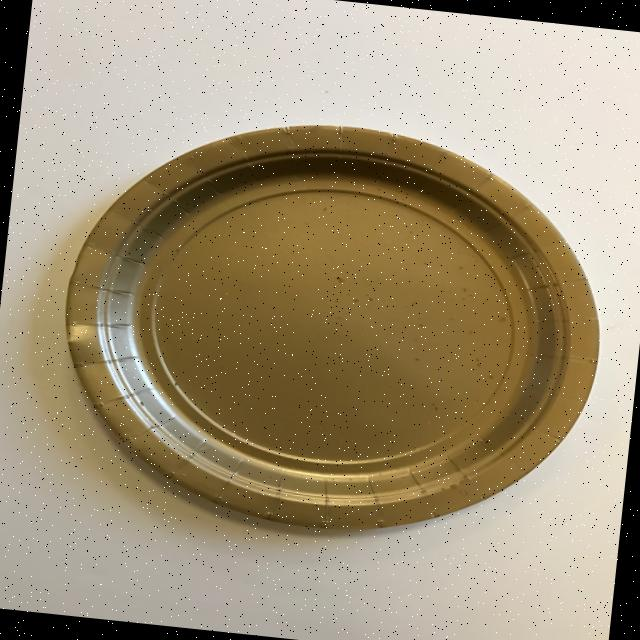paper: (44, 98, 621, 556)
